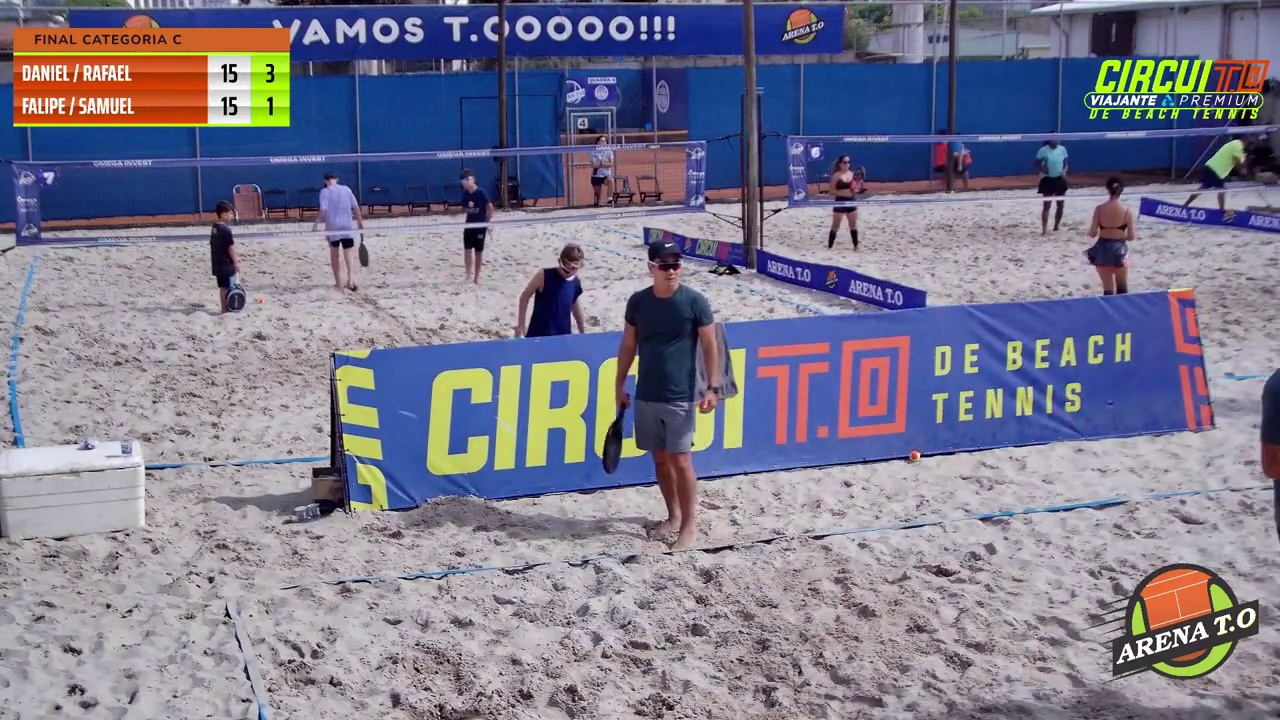court_line: (221, 0, 360, 273)
